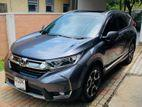car: (4, 10, 137, 102)
